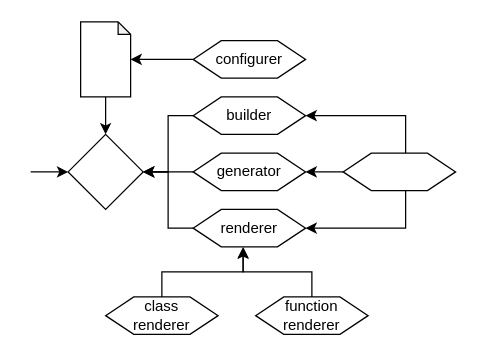
Image size: 478x356. Some labels were removed from this diagram. Here are the shapes that lost their labels. From the top down, the centre of each, then its label:
At point 105,59: "build config".
At point 105,171: "run".
At point 399,171: "doc_types".
